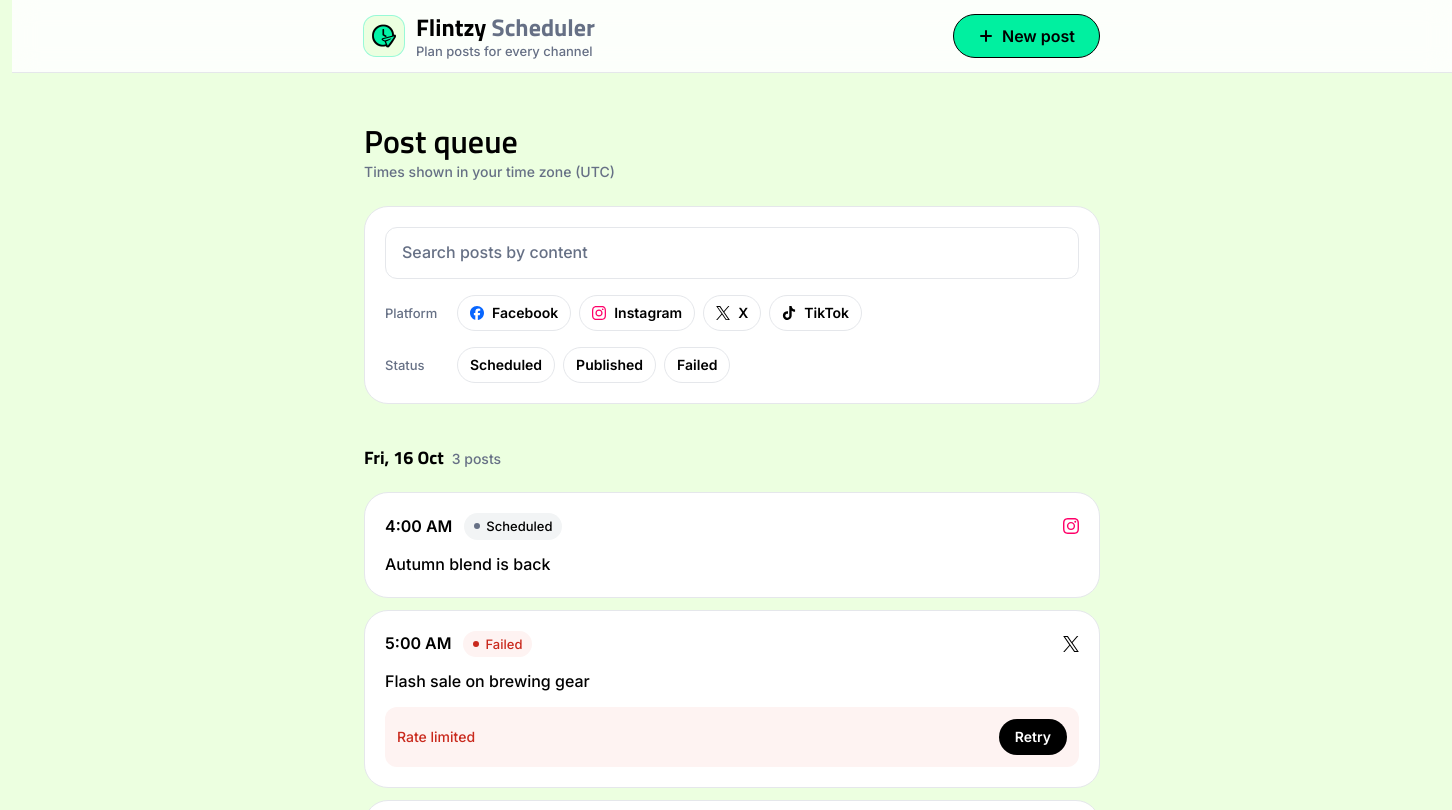
post filters › debounces search into the URL
Expected: the text "Autumn blend is back" is shown, [385,554,550,574]
Step 1. Type "autumn" into the search field labelled "Search posts" → (732, 253), box [385,227,1079,279]
(page scrolled)
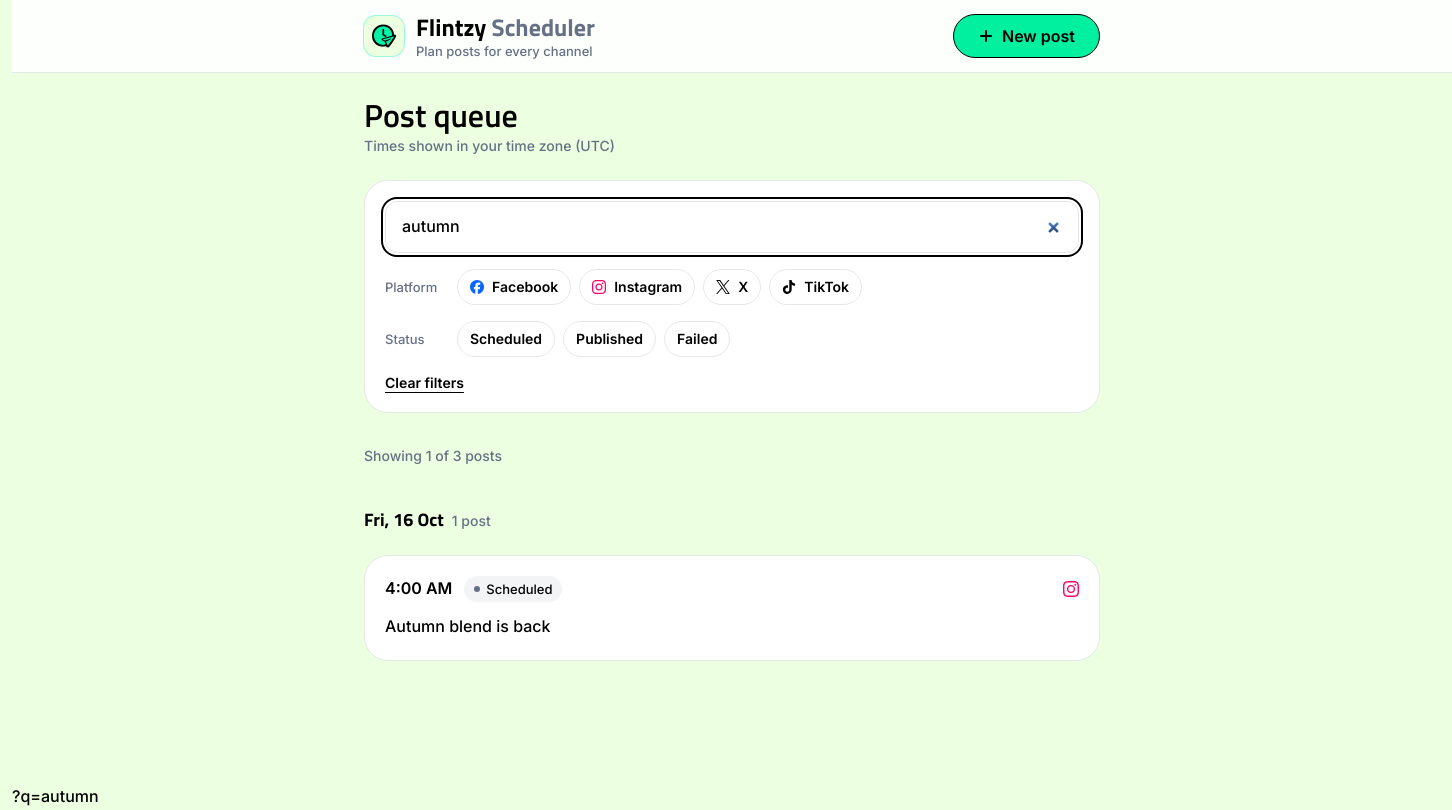
Expected: the text "Showing 1 of 3 posts" is shown, [364,447,502,464]
Expected: the text with test id "location-search" reads "?q=autumn", [12,786,99,806]
